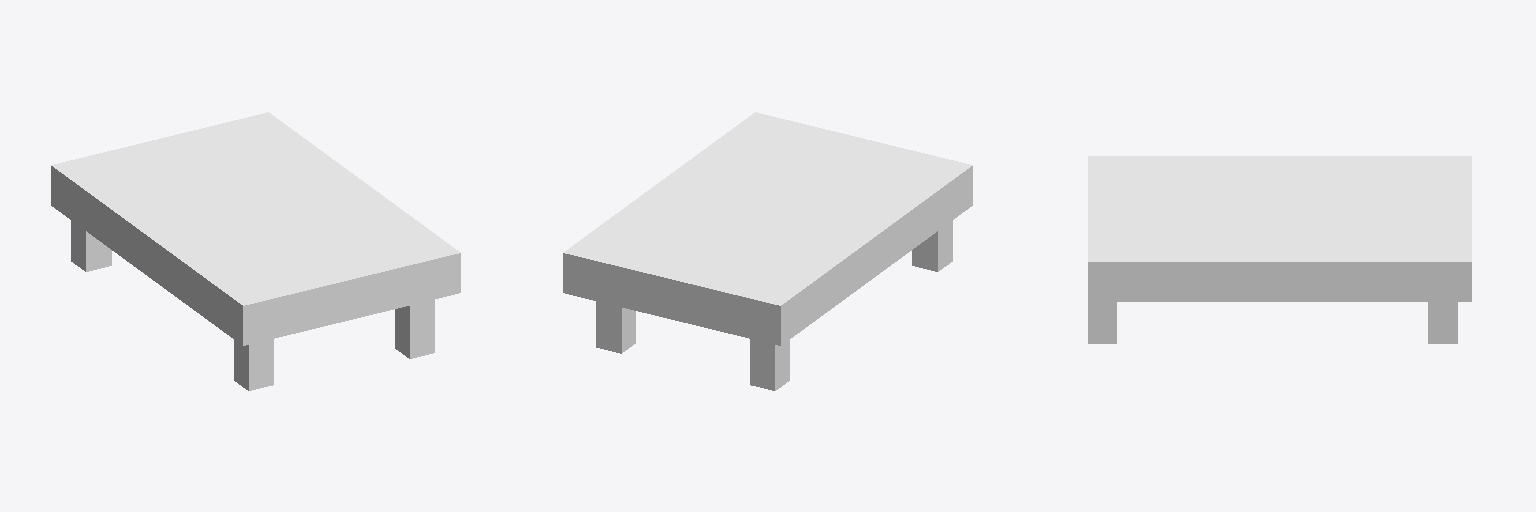
The model's file is classic:table-small.obj.
3 renders of one model, left to right at view 1: azimuth 30°, elevation 25°; view 2: azimuth 150°, elevation 25°; view 3: azimuth 270°, elevation 25°, orthographic.
Visible parts, largest first — view 1: classic:table-small; view 2: classic:table-small; view 3: classic:table-small.
Part boxes in pixels (x1,y1,x2,y2): classic:table-small: (51,112,460,390); classic:table-small: (563,112,972,390); classic:table-small: (1088,156,1471,343).
Size of the model in its own units: 17 by 7 by 26.